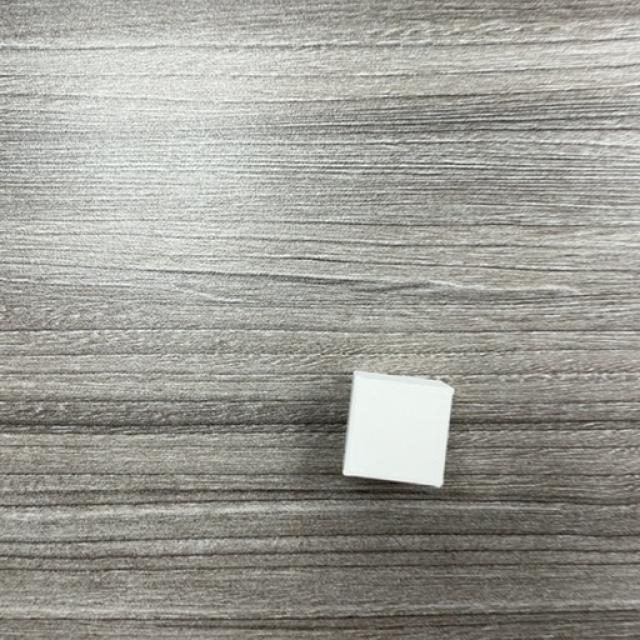Blanco: (341, 370, 454, 491)
